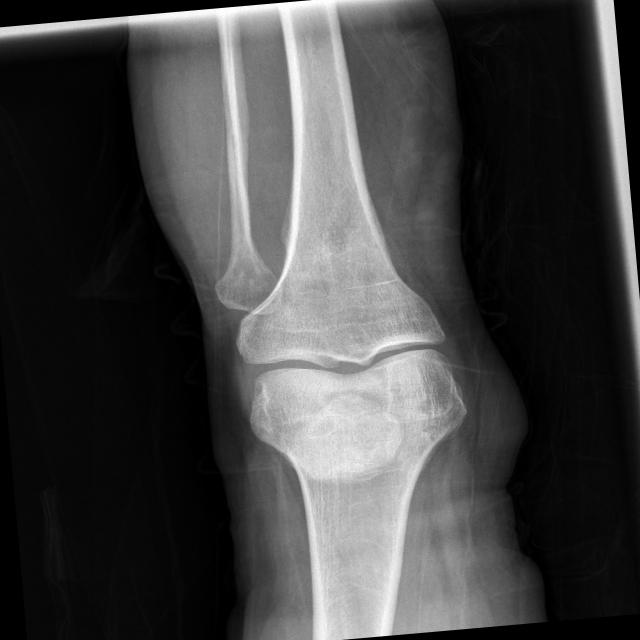Knee: (230, 252, 473, 450)
